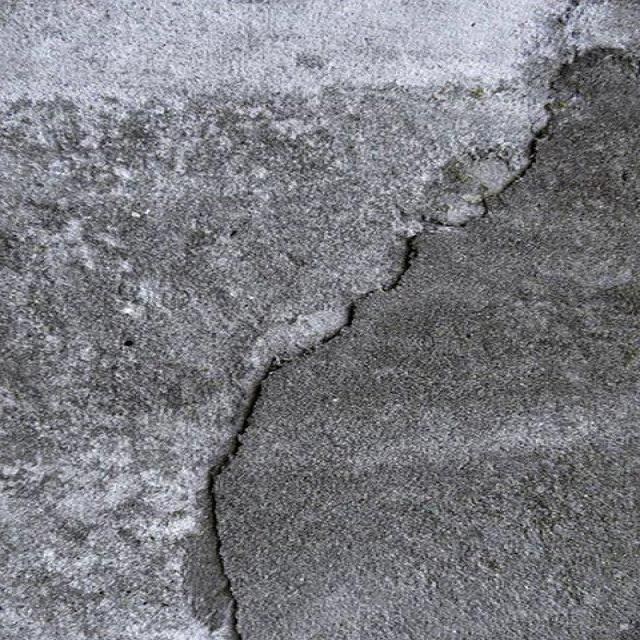Crack: (172, 48, 616, 617)
